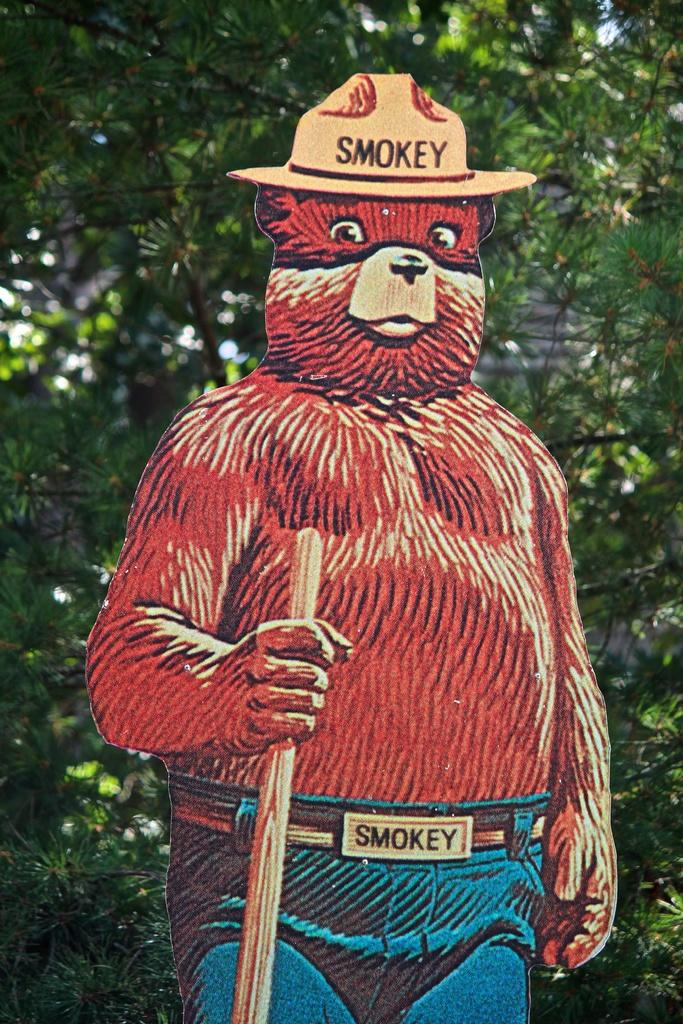Hat: (228, 72, 540, 203)
